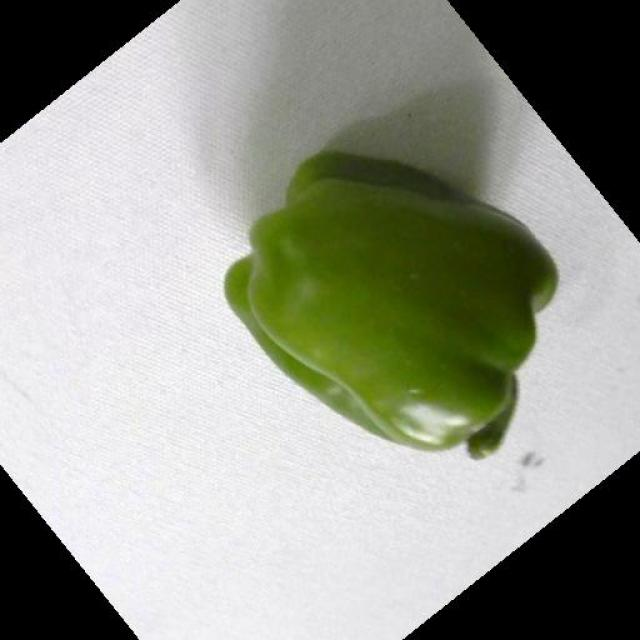Fresh_Capsicum: (234, 133, 558, 483)
